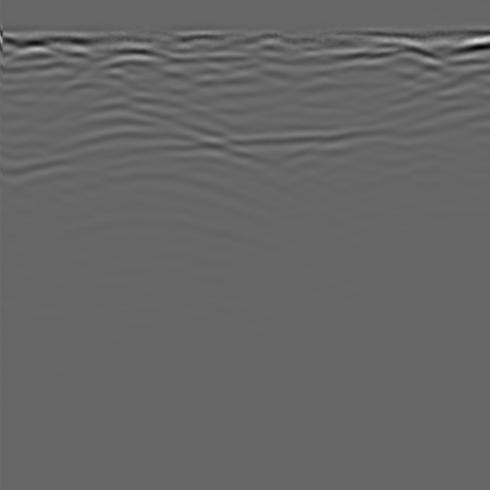hyperbola: (15, 107, 302, 251)
